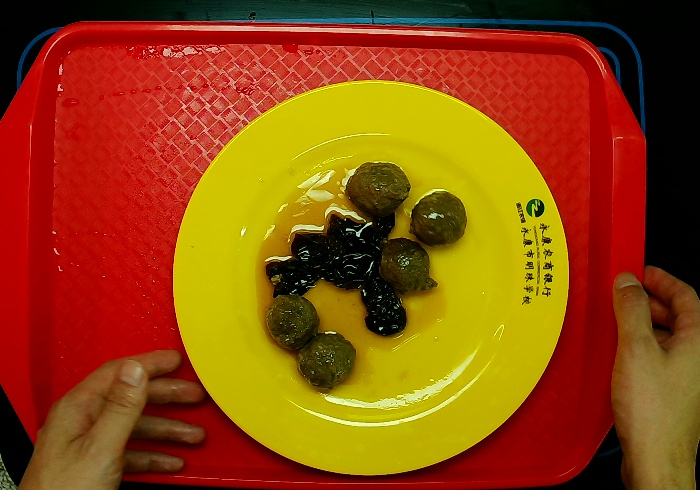YKMZ-Huang_Se_Mian_Pan: (167, 75, 578, 474)
